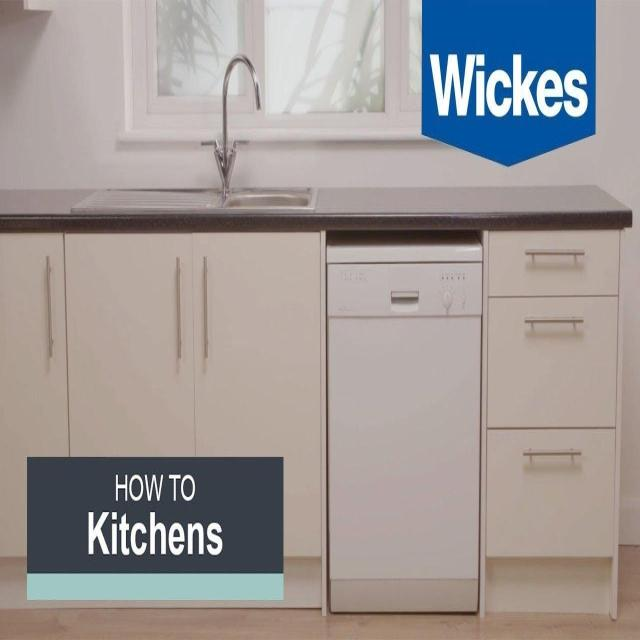dishwasher: (323, 225, 482, 619)
